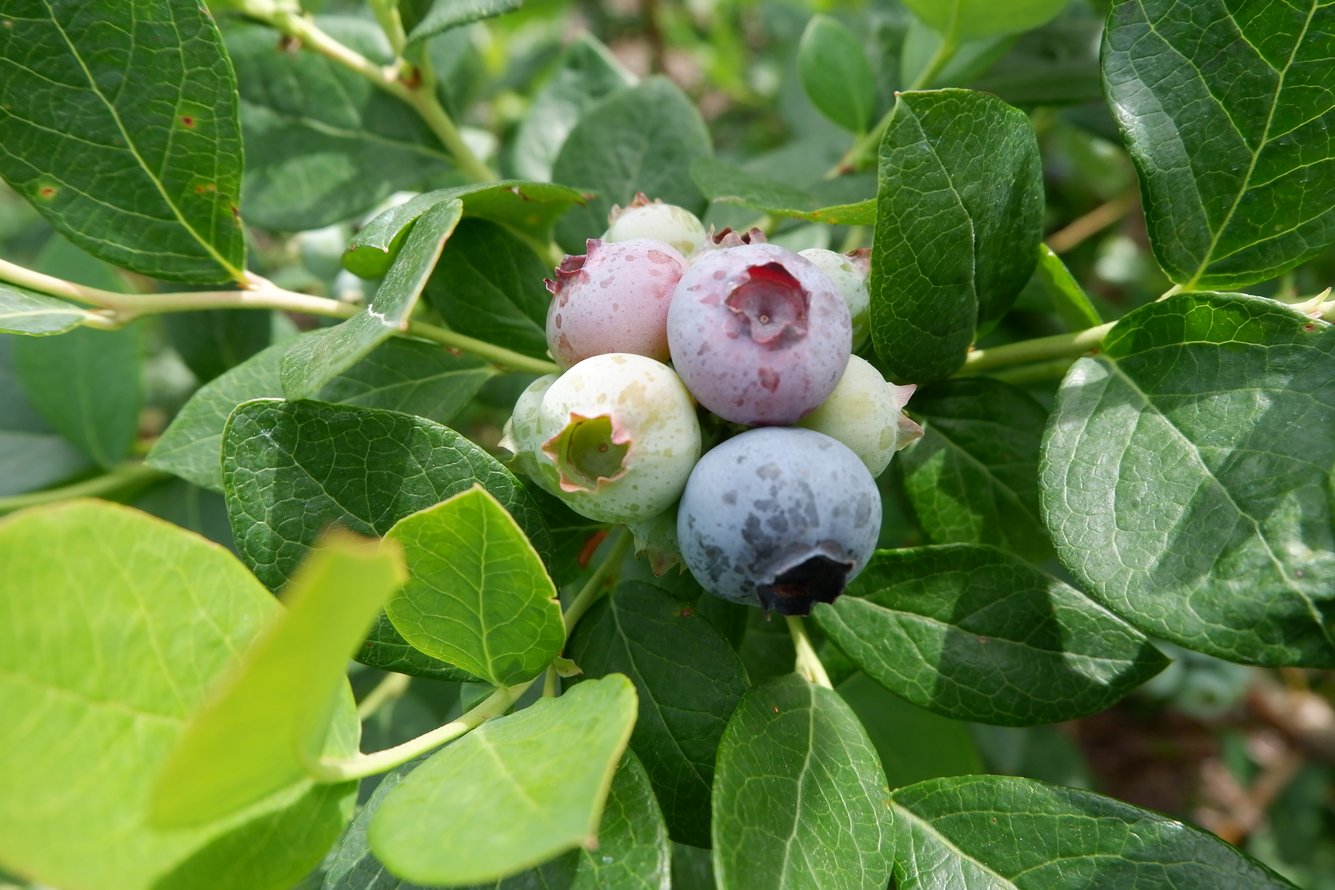Immature: (671, 243, 846, 420), (535, 354, 700, 522), (549, 239, 682, 366), (805, 357, 920, 471), (495, 373, 561, 498), (800, 248, 870, 353), (605, 194, 704, 259), (627, 497, 685, 578), (686, 222, 769, 270)
Mature: (678, 431, 876, 611)
